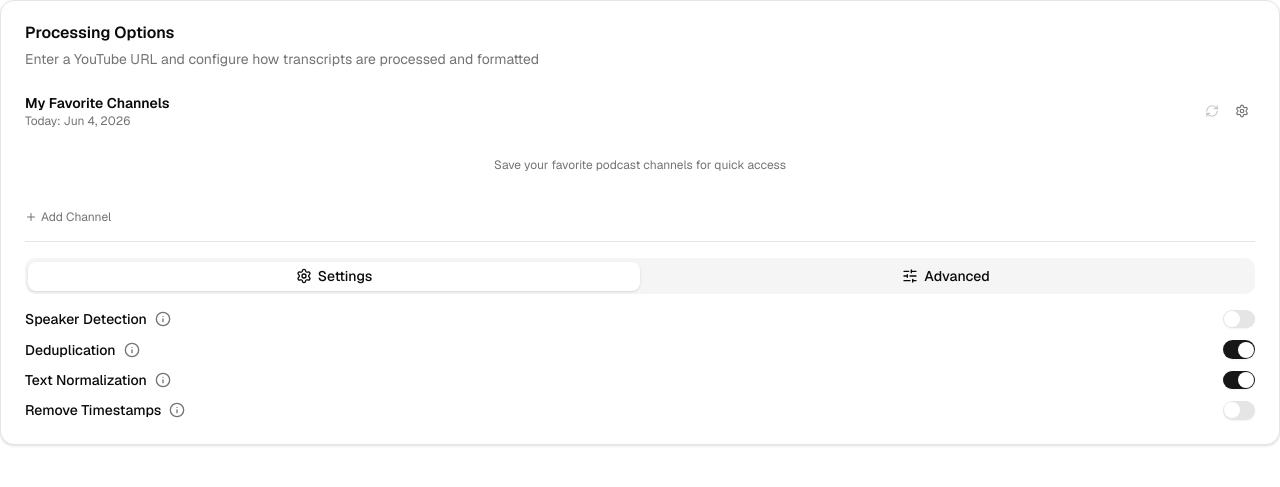
Test: ProcessingOptions › shows info icons that expand descriptions
Click the tab "Settings" at (334, 276), box [28,262,640,290]
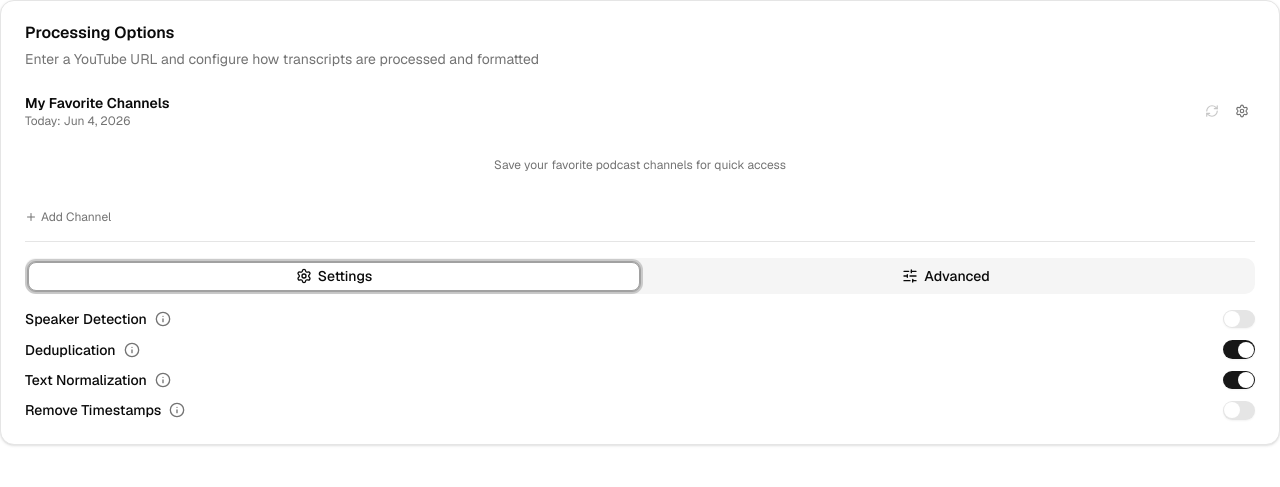
// Click first info button to expand description
Click the button named "Toggle Speaker Detection description" at (163, 319), box [155,311,171,327]
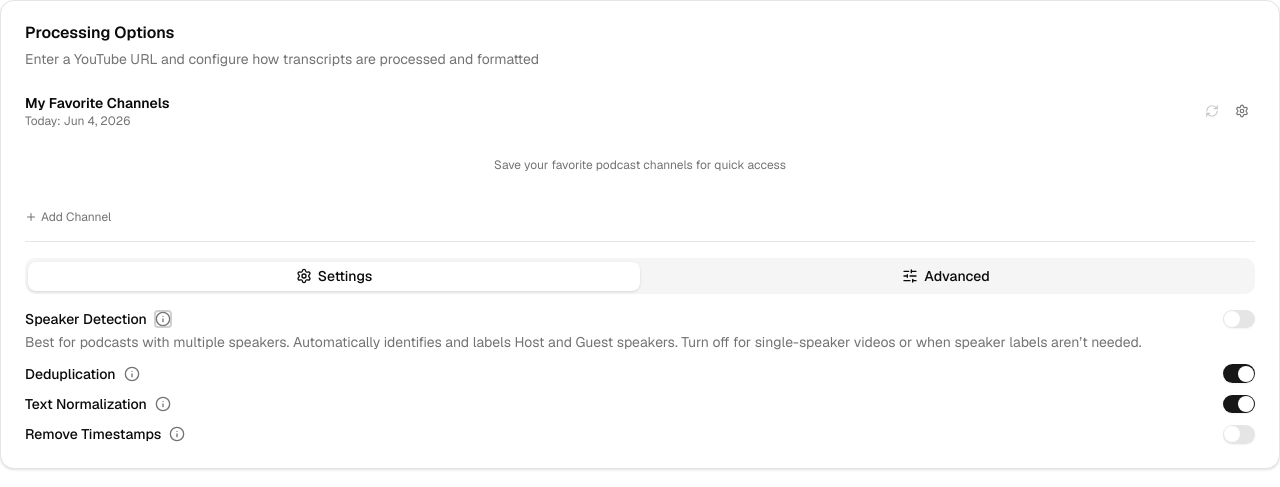
Result: the text "Best for podcasts with multiple speakers" is shown at [25,333,1142,351]
